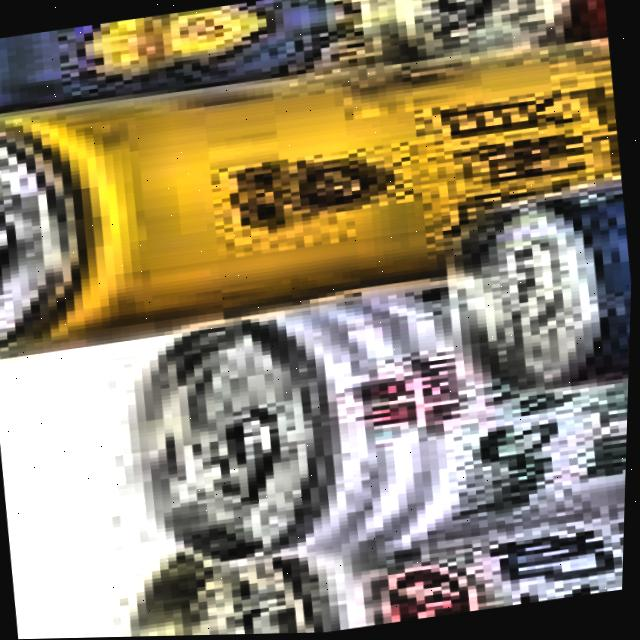metal: (0, 27, 637, 366), (89, 248, 634, 591), (107, 482, 629, 638), (0, 0, 401, 179), (418, 176, 636, 417), (330, 0, 611, 94)
